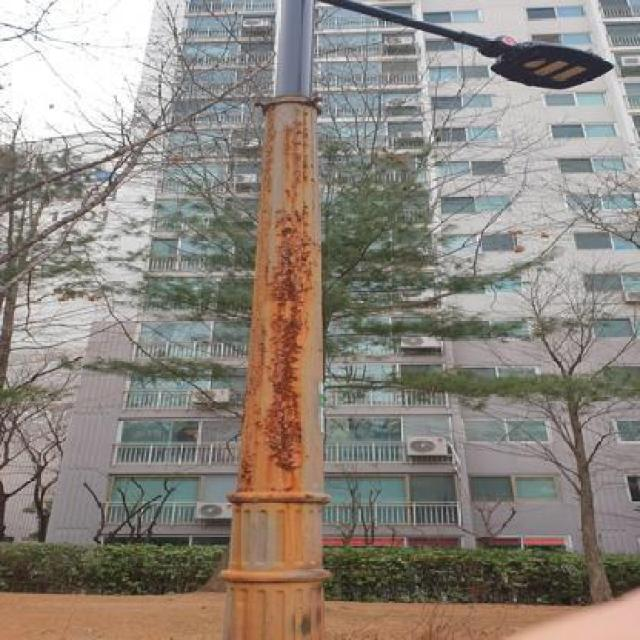pole: (214, 0, 338, 640)
